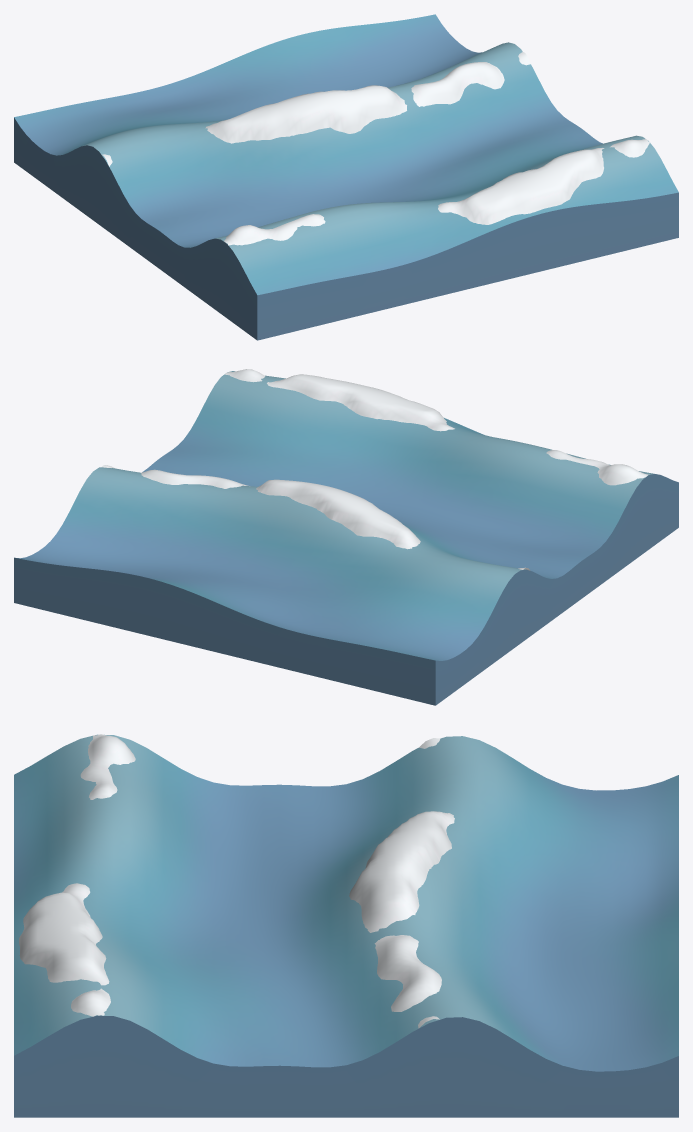
The model's file is ocean-wave-tile.glb.
The picture shows the model from 3 angles, top to bottom: view 1: azimuth 30°, elevation 25°; view 2: azimuth 150°, elevation 25°; view 3: azimuth 270°, elevation 25°; orthographic projection. The views are drawn at different scales.
Visible parts, largest first — view 1: ocean-wave-tile_water, ocean-wave-tile_body; view 2: ocean-wave-tile_water, ocean-wave-tile_body; view 3: ocean-wave-tile_water, ocean-wave-tile_body.
Boxes of the visible parts, box(x1,y1,x2,y2) form: ocean-wave-tile_water: box(14, 14, 678, 340); ocean-wave-tile_body: box(102, 52, 649, 245); ocean-wave-tile_water: box(14, 371, 678, 705); ocean-wave-tile_body: box(101, 369, 649, 570); ocean-wave-tile_water: box(14, 734, 678, 1117); ocean-wave-tile_body: box(19, 734, 454, 1028).
Bounding box in the file's own units: 4 × 0.8247 × 4.
Materials: 2 (1 with a texture image).
